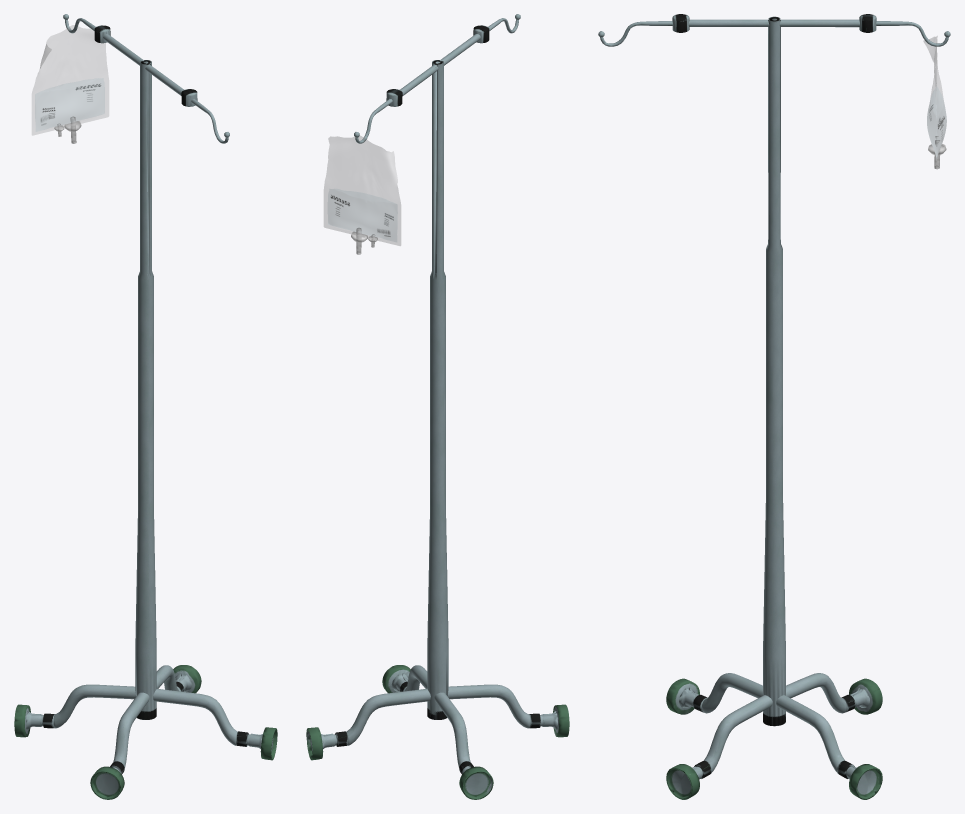
3 renders of one model, left to right at view 1: azimuth 30°, elevation 25°; view 2: azimuth 150°, elevation 25°; view 3: azimuth 270°, elevation 25°, orthographic. The views are drawn at different scales.
Parts seen in each view (by area): view 1: PM3D_Base_IVPole_copy1, PM3D_Base_IVPole_copy2, PM3D_Base_IVPole; view 2: PM3D_Base_IVPole_copy1, PM3D_Base_IVPole_copy2, PM3D_Base_IVPole; view 3: PM3D_Base_IVPole_copy1, PM3D_Base_IVPole_copy2, PM3D_Base_IVPole.
Boxes of the visible parts, box(x1,y1,x2,y2) form: PM3D_Base_IVPole_copy1: box(14, 14, 277, 799); PM3D_Base_IVPole_copy2: box(32, 25, 108, 135); PM3D_Base_IVPole: box(35, 79, 104, 130); PM3D_Base_IVPole_copy1: box(306, 14, 569, 799); PM3D_Base_IVPole_copy2: box(324, 136, 400, 245); PM3D_Base_IVPole: box(328, 189, 397, 241); PM3D_Base_IVPole_copy1: box(598, 14, 950, 799); PM3D_Base_IVPole_copy2: box(923, 36, 946, 158); PM3D_Base_IVPole: box(927, 88, 945, 156).
Bounding box in the file's own units: 506 × 1776 × 767.
Materials: 4 (4 with a texture image).
